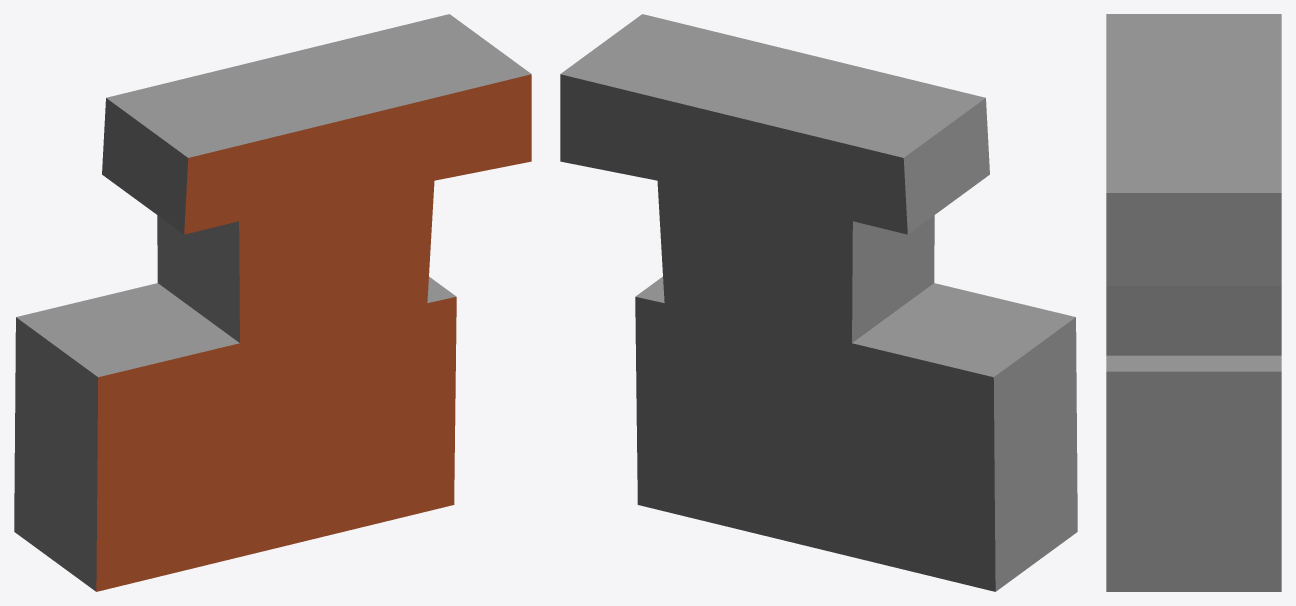
Rendered from construction_3254_assumed_A_Casa_h6m.obj.
3 renders of one model, left to right at view 1: azimuth 30°, elevation 25°; view 2: azimuth 150°, elevation 25°; view 3: azimuth 270°, elevation 25°, orthographic. The views are drawn at different scales.
Parts seen in each view (by area): view 1: construction_3254_assumed_A_Casa; view 2: construction_3254_assumed_A_Casa; view 3: construction_3254_assumed_A_Casa.
Part boxes in pixels (<box>): construction_3254_assumed_A_Casa: <box>14,14,531,591</box>; construction_3254_assumed_A_Casa: <box>560,14,1077,591</box>; construction_3254_assumed_A_Casa: <box>1106,14,1281,591</box>.
Bounding box in the file's own units: 18.34 × 16.58 × 6.
